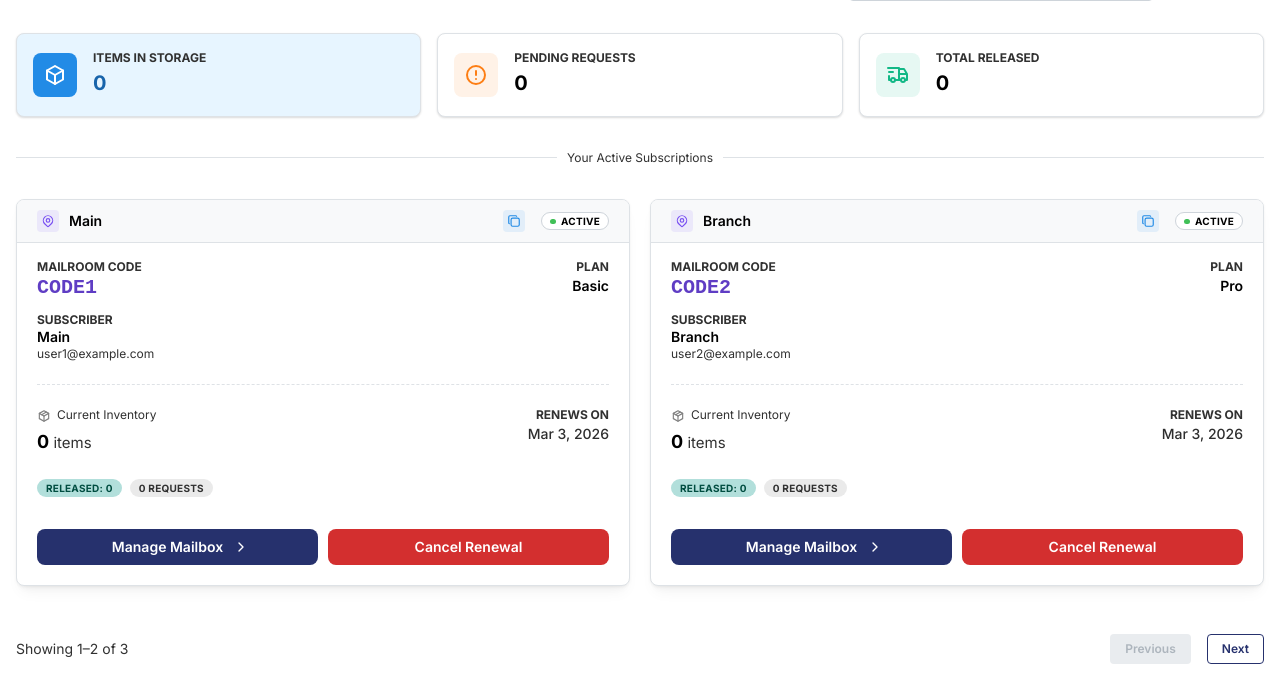
UserDashboard — UI: rendering, copy action, and pagination › pagination: Add New Mailroom link exists and Next/Previous navigate registrations
(page scrolled)
Expected: the button "Previous" is disabled, [1110,634,1191,664]
Expected: the link "Manage Mailbox" below "user1@example.com" is shown, [37,529,318,565]
Click the button "Next": [1235, 649] box [1207,634,1264,664]
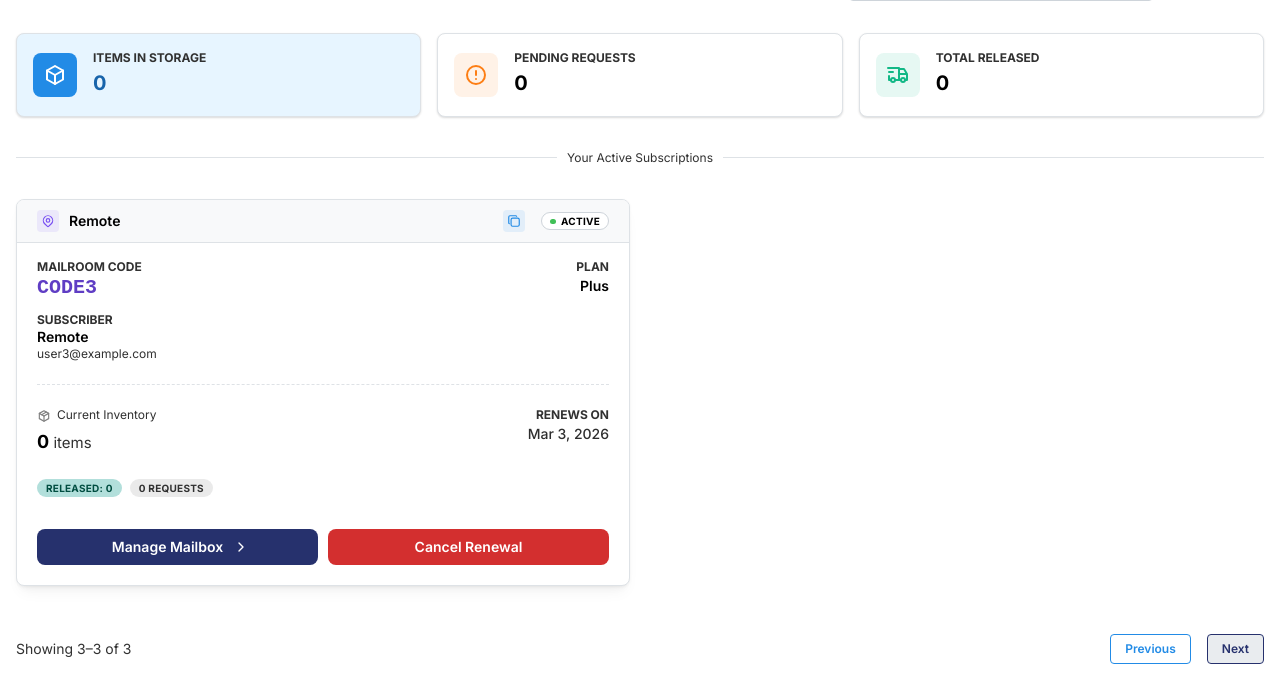
Expected: the link "Manage Mailbox" is shown, [37,529,318,565]
Now the button "Previous" is enabled
Click the button "Previous": [1150, 649] box [1110,634,1191,664]
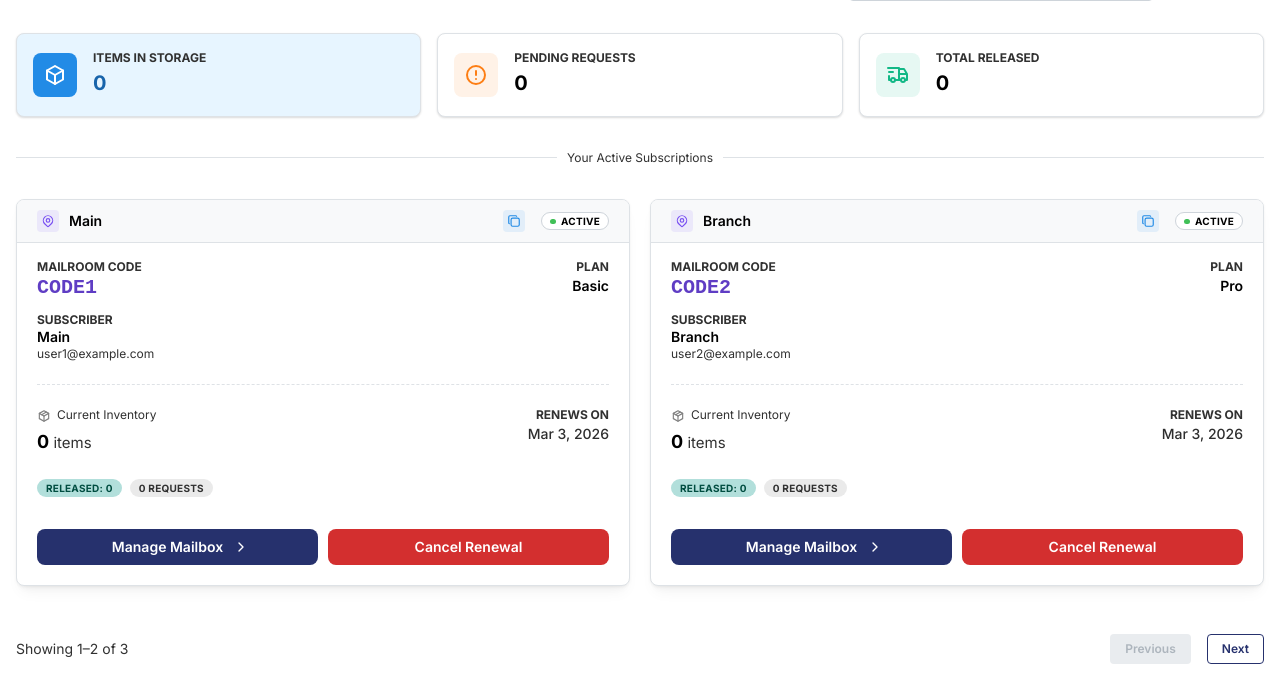
Expected: the link "Manage Mailbox" below "user1@example.com" is shown, [37,529,318,565]
Now the button "Previous" is disabled, box [1110,634,1191,664]
